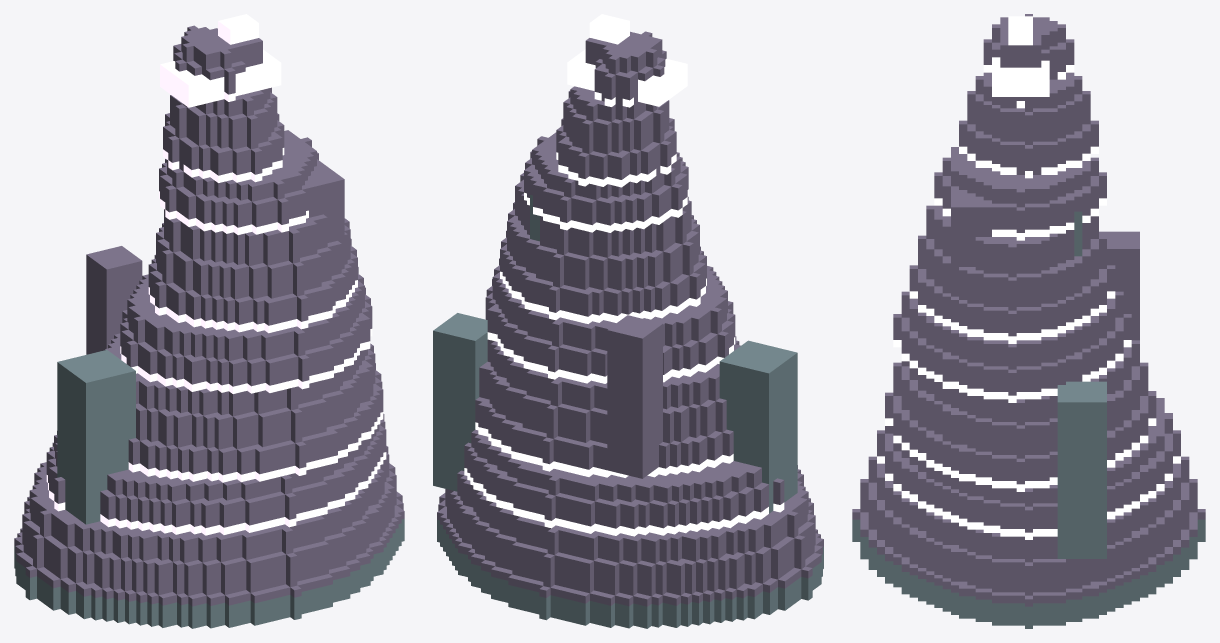
Rendered from crag_unbreakable.glb.
3 renders of one model, left to right at view 1: azimuth 30°, elevation 25°; view 2: azimuth 150°, elevation 25°; view 3: azimuth 270°, elevation 25°, orthographic.
Visible parts, largest first — view 1: CragUnbreakableSurface; view 2: CragUnbreakableSurface; view 3: CragUnbreakableSurface.
Part boxes in pixels (x1,y1,x2,y2): CragUnbreakableSurface: (14, 14, 404, 628); CragUnbreakableSurface: (433, 14, 823, 628); CragUnbreakableSurface: (852, 14, 1205, 628).
Bounding box in the file's own units: 6.38 × 8.88 × 5.38.
